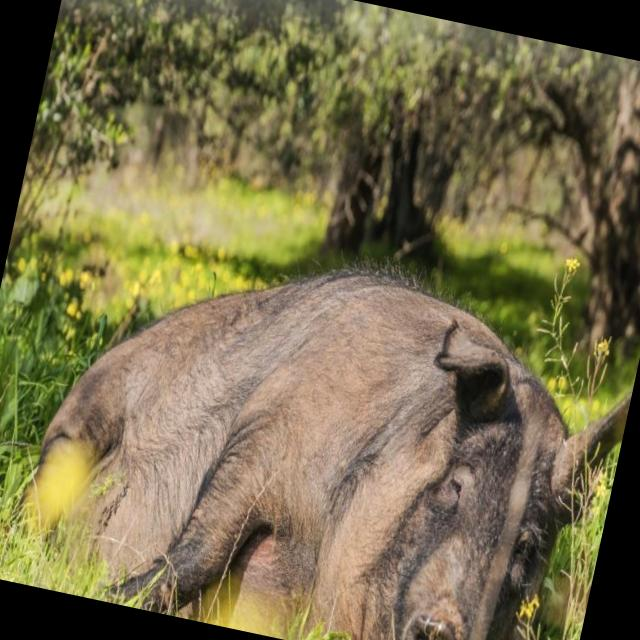pig: (35, 269, 631, 640)
